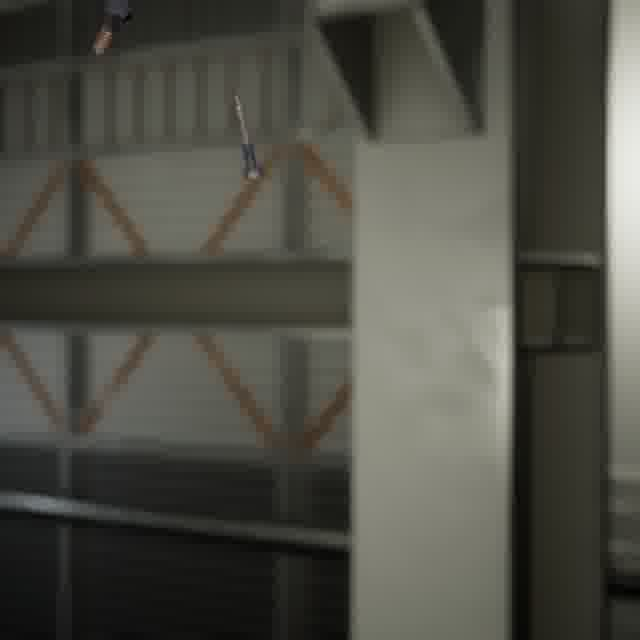bolt: (228, 87, 268, 183), (88, 0, 137, 59)
